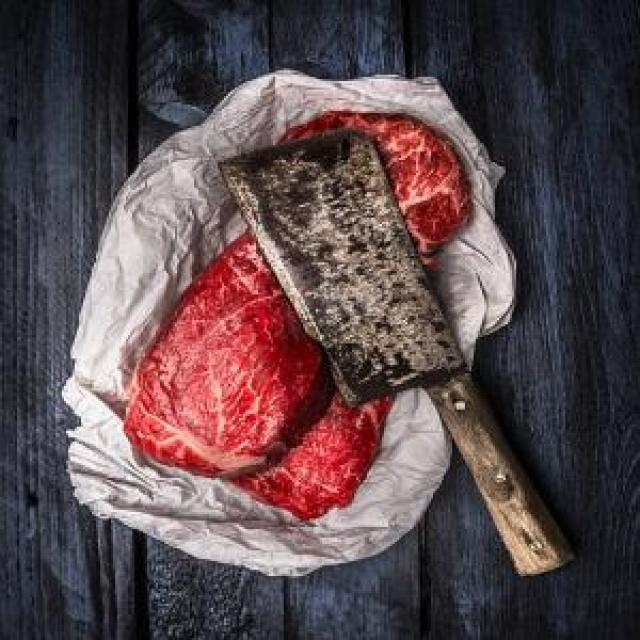knife: (220, 130, 578, 578)
